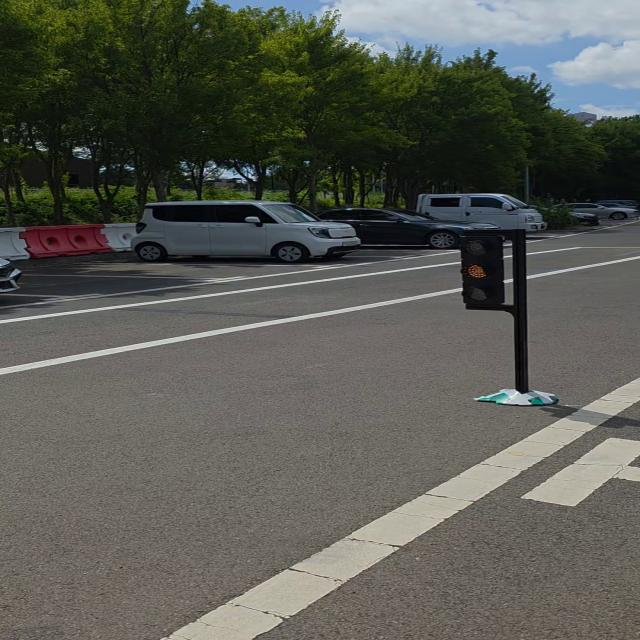yellow: (448, 230, 508, 317)
